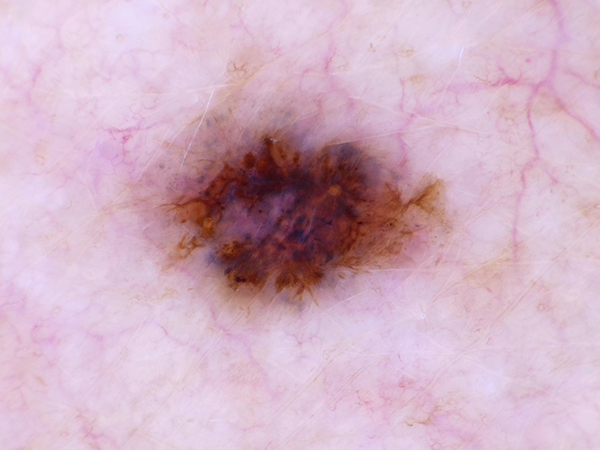Detected Lesion: (122, 111, 468, 306)
